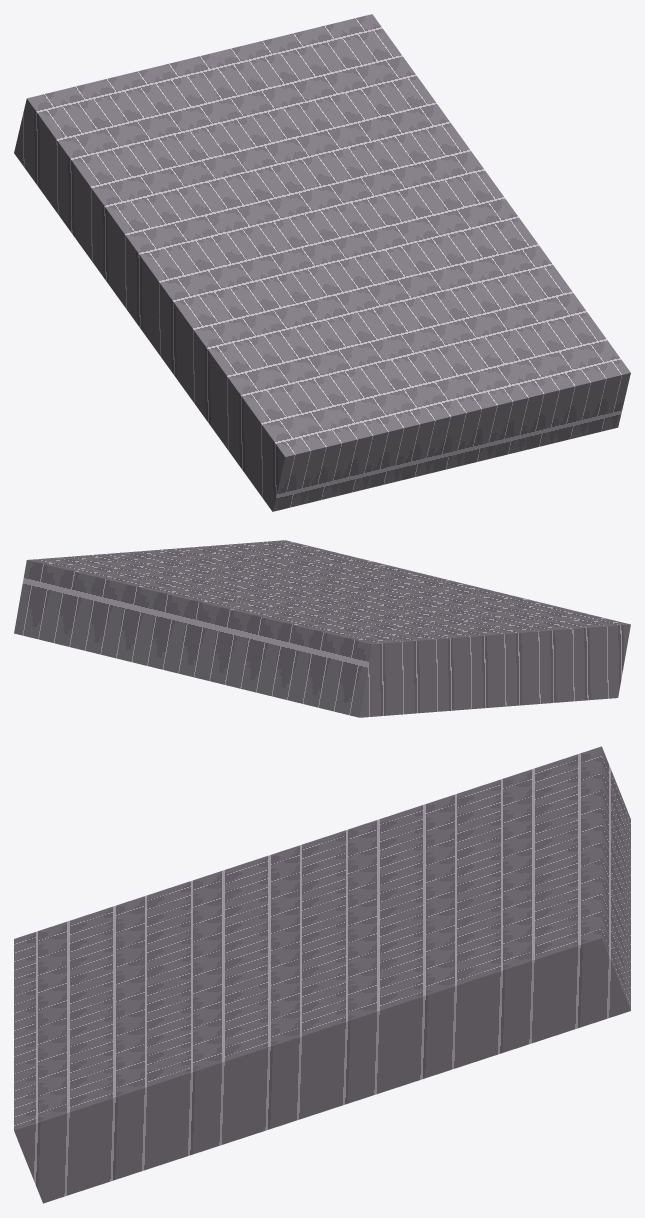
The model's file is MoatBackRamp.fbx.
3 renders of one model, top to bottom at view 1: azimuth 30°, elevation 25°; view 2: azimuth 150°, elevation 25°; view 3: azimuth 270°, elevation 25°, orthographic. The views are drawn at different scales.
Parts seen in each view (by area): view 1: MoatBackRamp; view 2: MoatBackRamp; view 3: MoatBackRamp.
Boxes of the visible parts, x1,y1,x2,y2 form: MoatBackRamp: (14, 14, 630, 511); MoatBackRamp: (14, 540, 630, 717); MoatBackRamp: (14, 746, 630, 1203).
Size of the model in its own units: 2830 by 1828 by 3849.
1 material, 1 textured.
